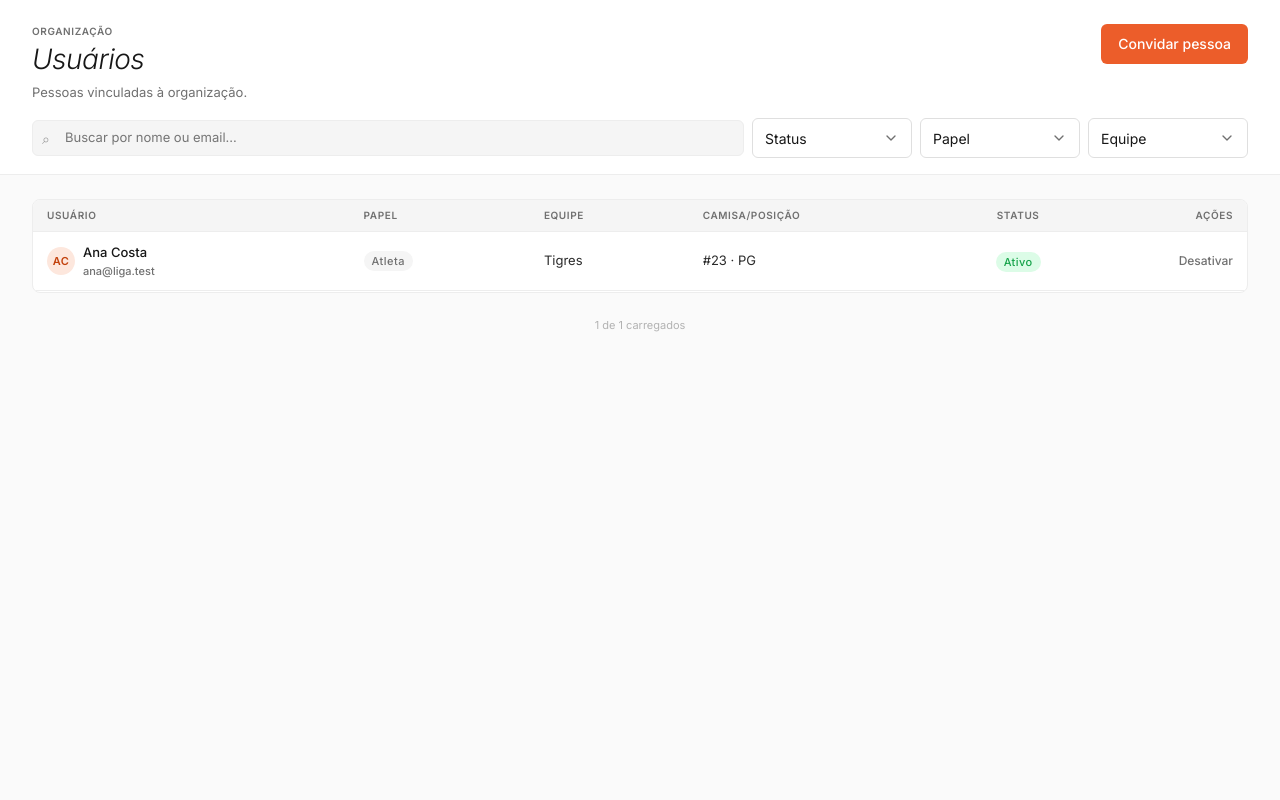
Scenario: OrgUsersPage › opens the invite drawer from the list header
Expected: the heading "Usuários" is shown, [32, 42, 144, 76]
Click the button "Convidar pessoa": (1175, 44) [1101, 24, 1248, 64]
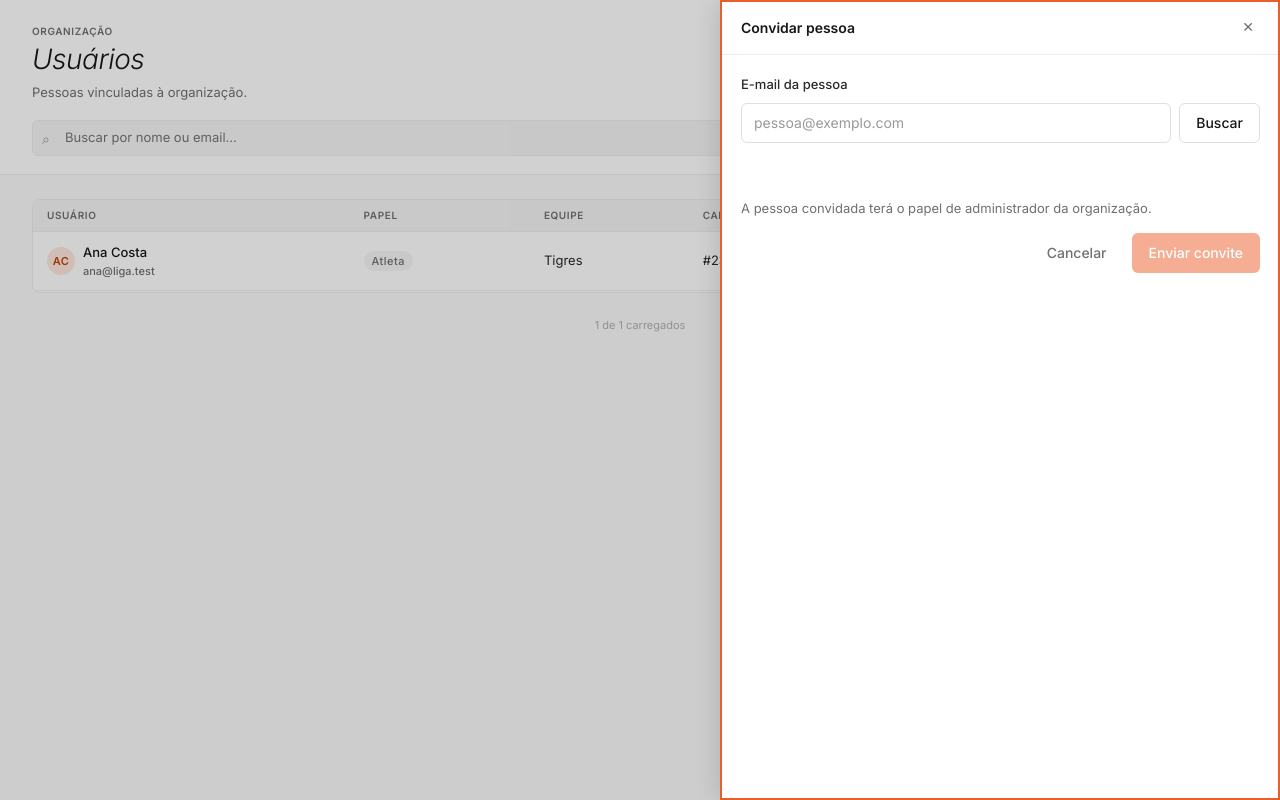
Result: the dialog "Convidar pessoa" is shown at [720, 0, 1279, 799]
